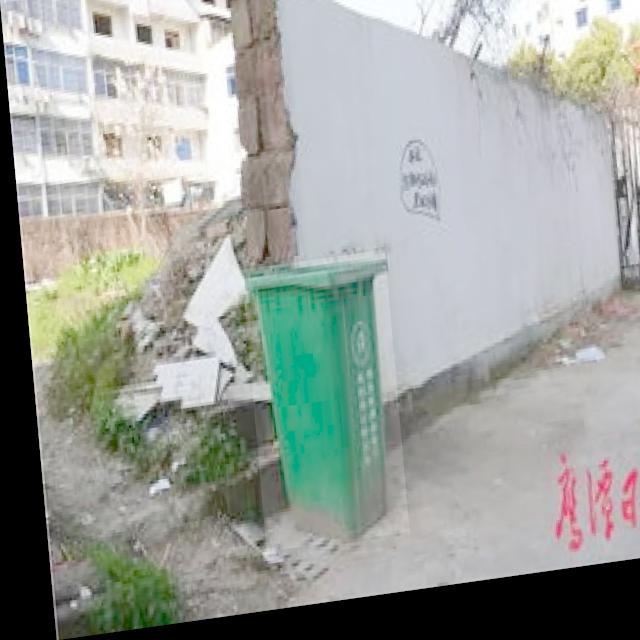garbage_bin: (236, 260, 399, 558)
